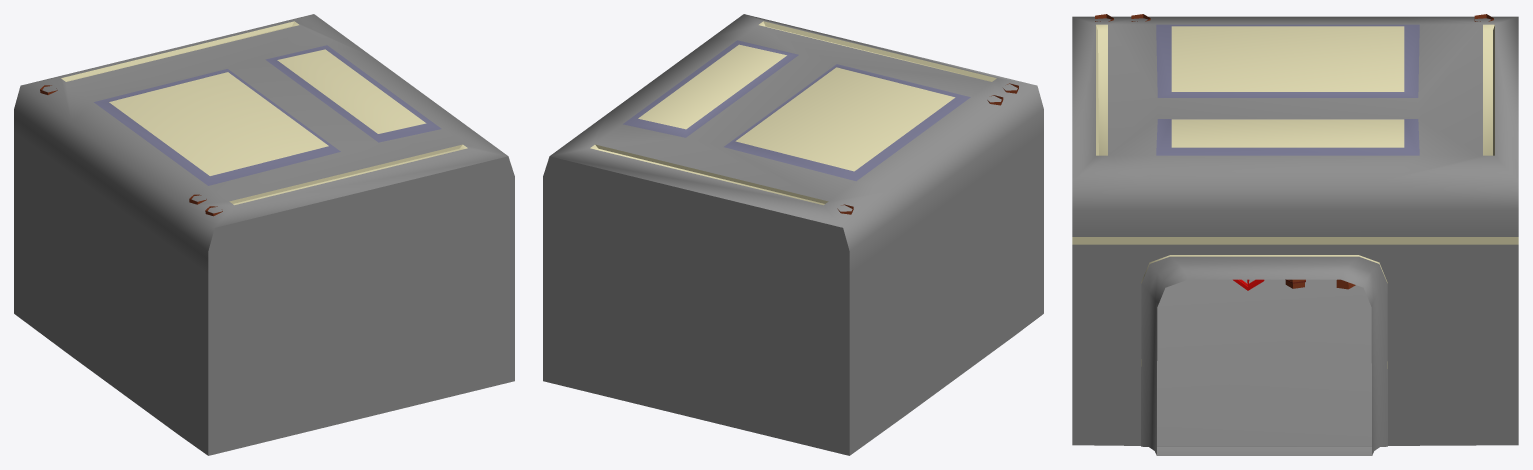
File: valves.fbx
The picture shows the model from 3 angles, left to right: view 1: azimuth 30°, elevation 25°; view 2: azimuth 150°, elevation 25°; view 3: azimuth 270°, elevation 25°; orthographic projection. The views are drawn at different scales.
Parts seen in each view (by area): view 1: Cube.029; view 2: Cube.029; view 3: Cube.029.
Part boxes in pixels (bbox=[...]): Cube.029: bbox=[14, 14, 514, 455]; Cube.029: bbox=[543, 14, 1043, 455]; Cube.029: bbox=[1072, 14, 1518, 455].
Bounding box in the file's own units: 434 × 304 × 449.
